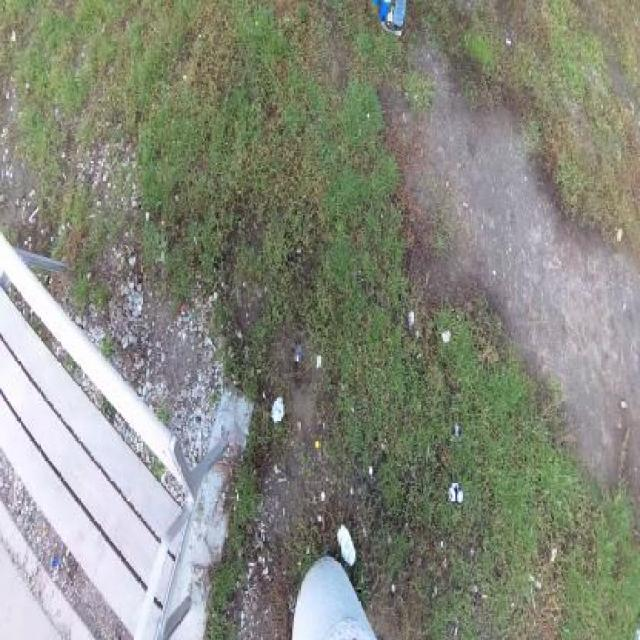Garbage: (337, 520, 356, 565), (448, 480, 464, 509), (269, 395, 285, 423), (294, 340, 304, 363)
